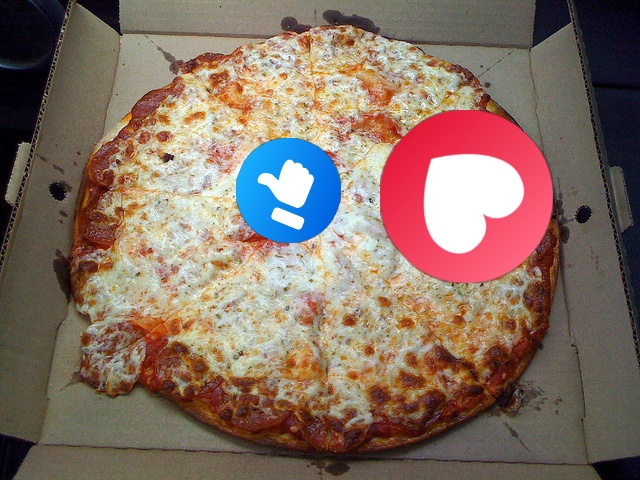like: (236, 138, 341, 243)
love: (380, 110, 553, 283)
